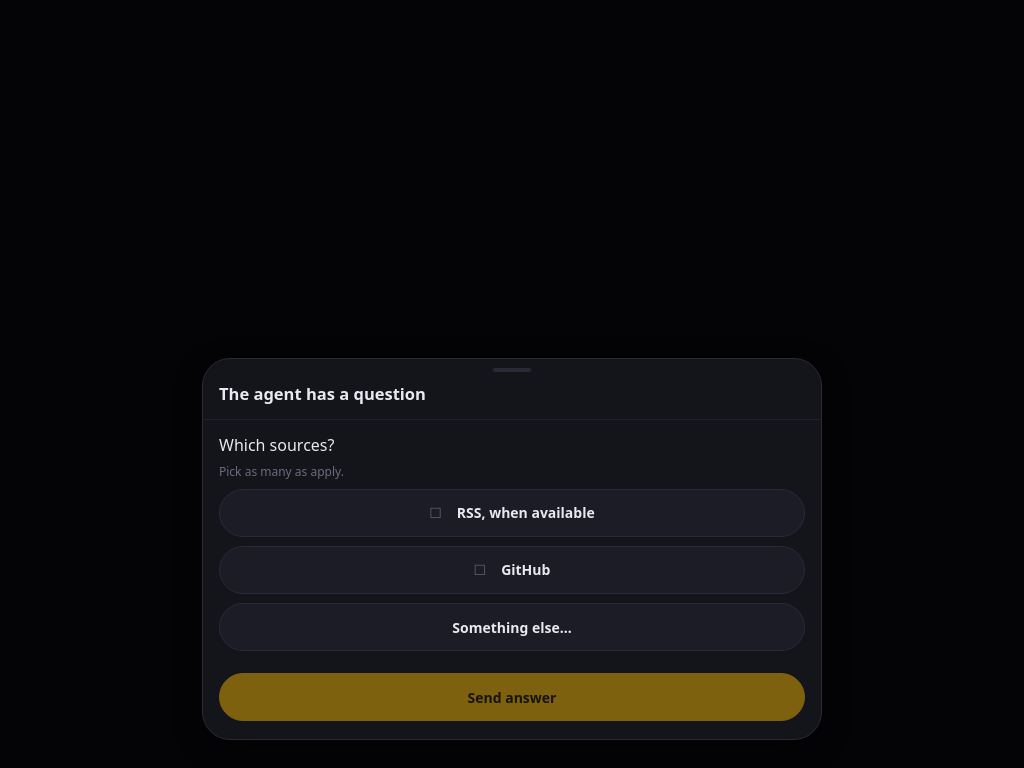
it: a multi-select question › lets a choice be taken back before sending
Click the button "☐ RSS, when available" at x=512, y=513, box [219, 489, 805, 537]
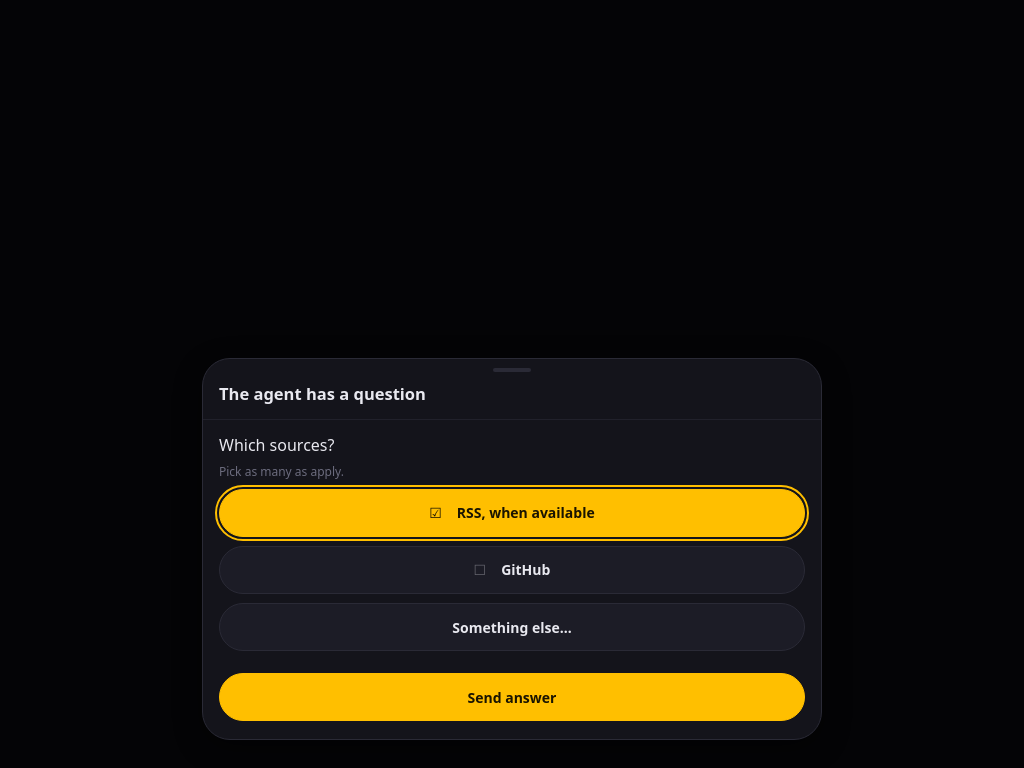
Click the button "☑ RSS, when available" at x=512, y=513, box [219, 489, 805, 537]
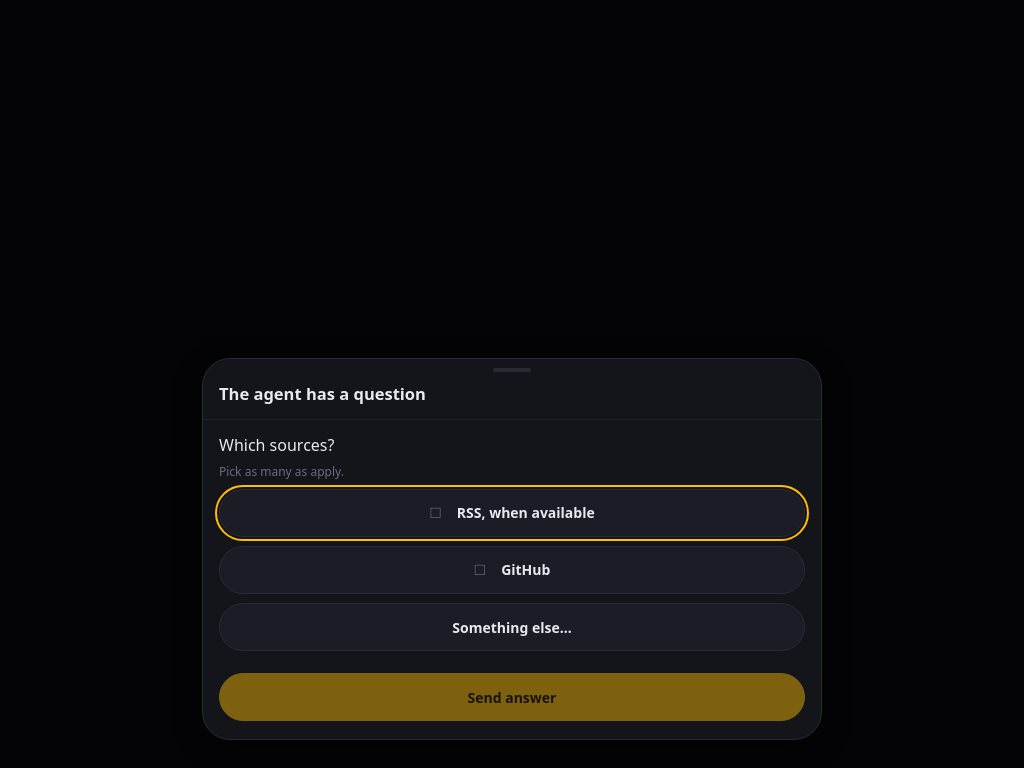
Result: the button "Send answer" is disabled at [219, 673, 805, 721]
